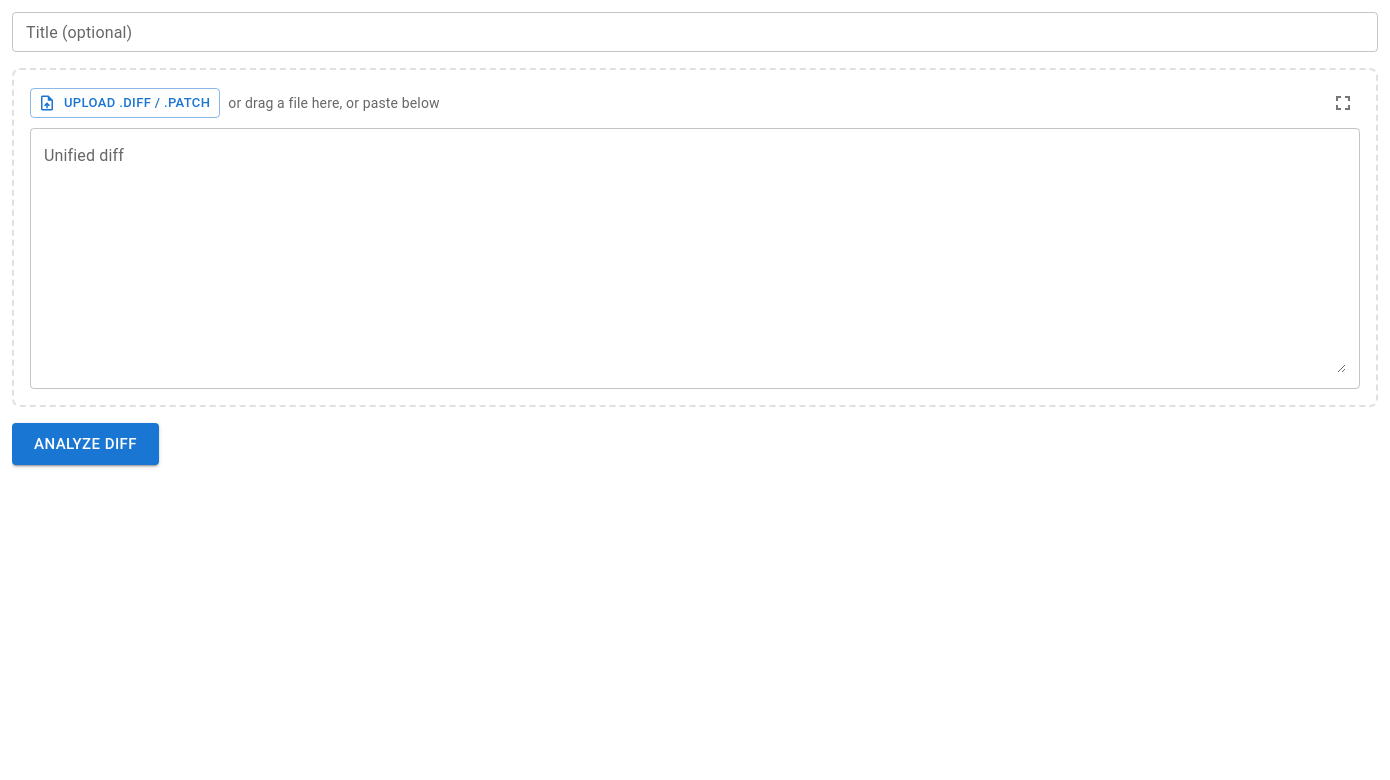
Test: DiffInput › toggles the diff textarea between compact and expanded view
This screenshot has width=1390, height=780.
Click the button named "expand diff view": (1343, 103) [1326,86,1360,120]
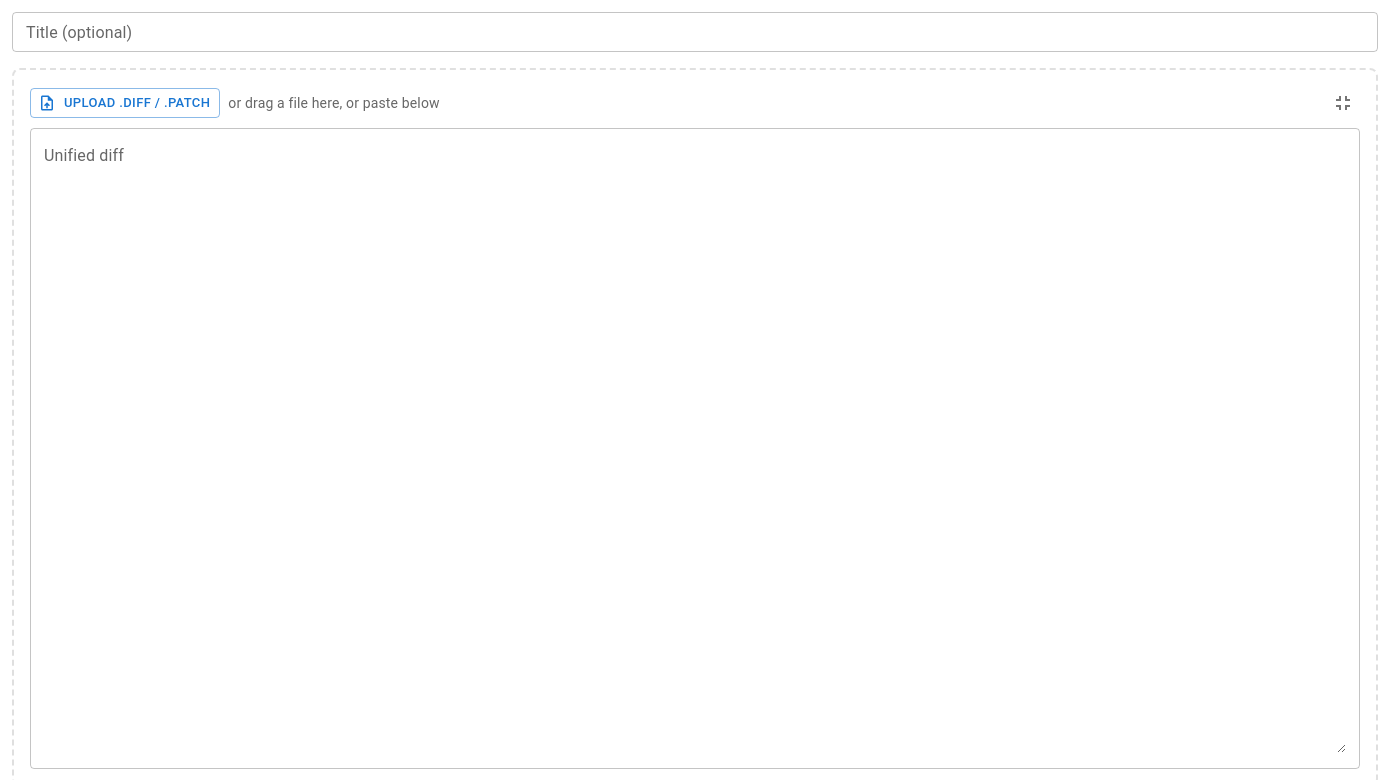
Expected: the button "expand diff view" is not shown
Expected: the button named "collapse diff view" is shown
Click the button named "collapse diff view": (1343, 103) [1326,86,1360,120]
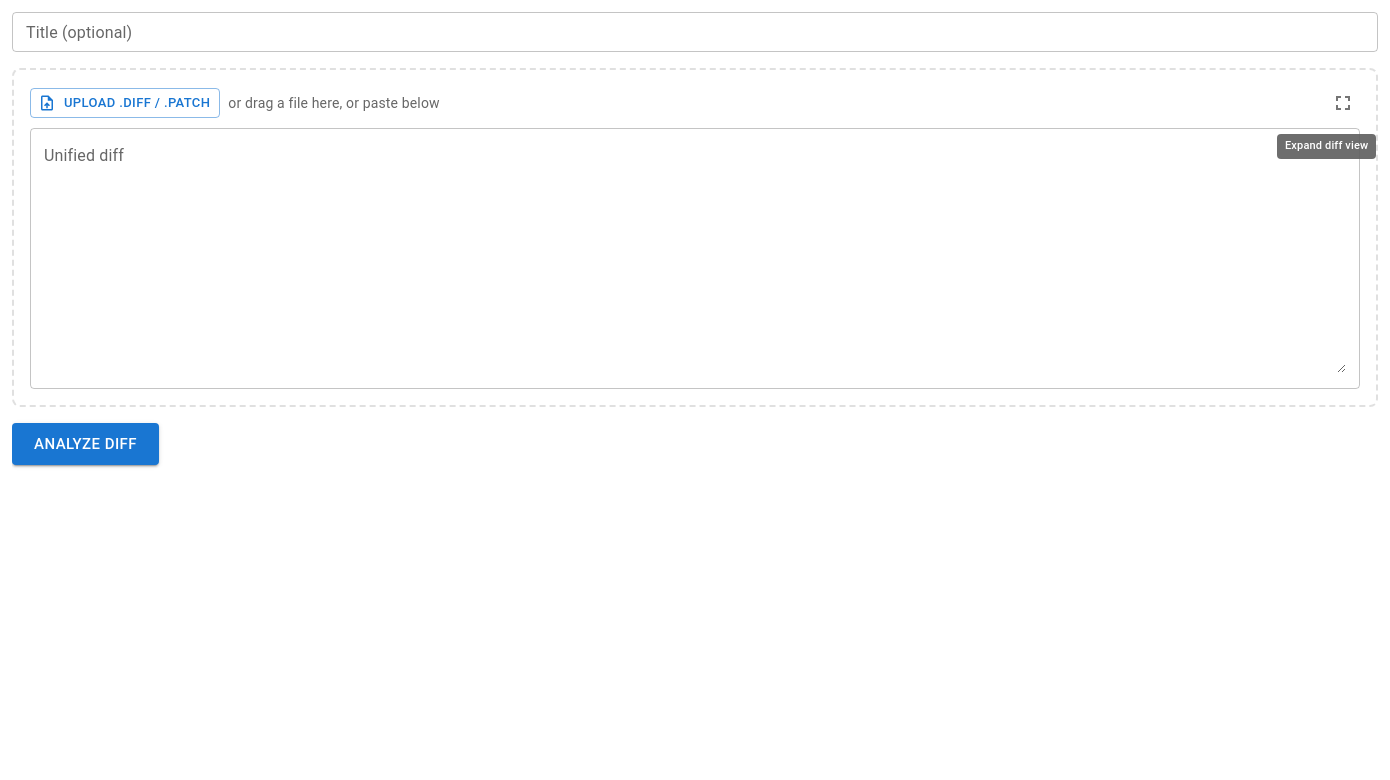
Expected: the button named "expand diff view" is shown, [1326,86,1360,120]
